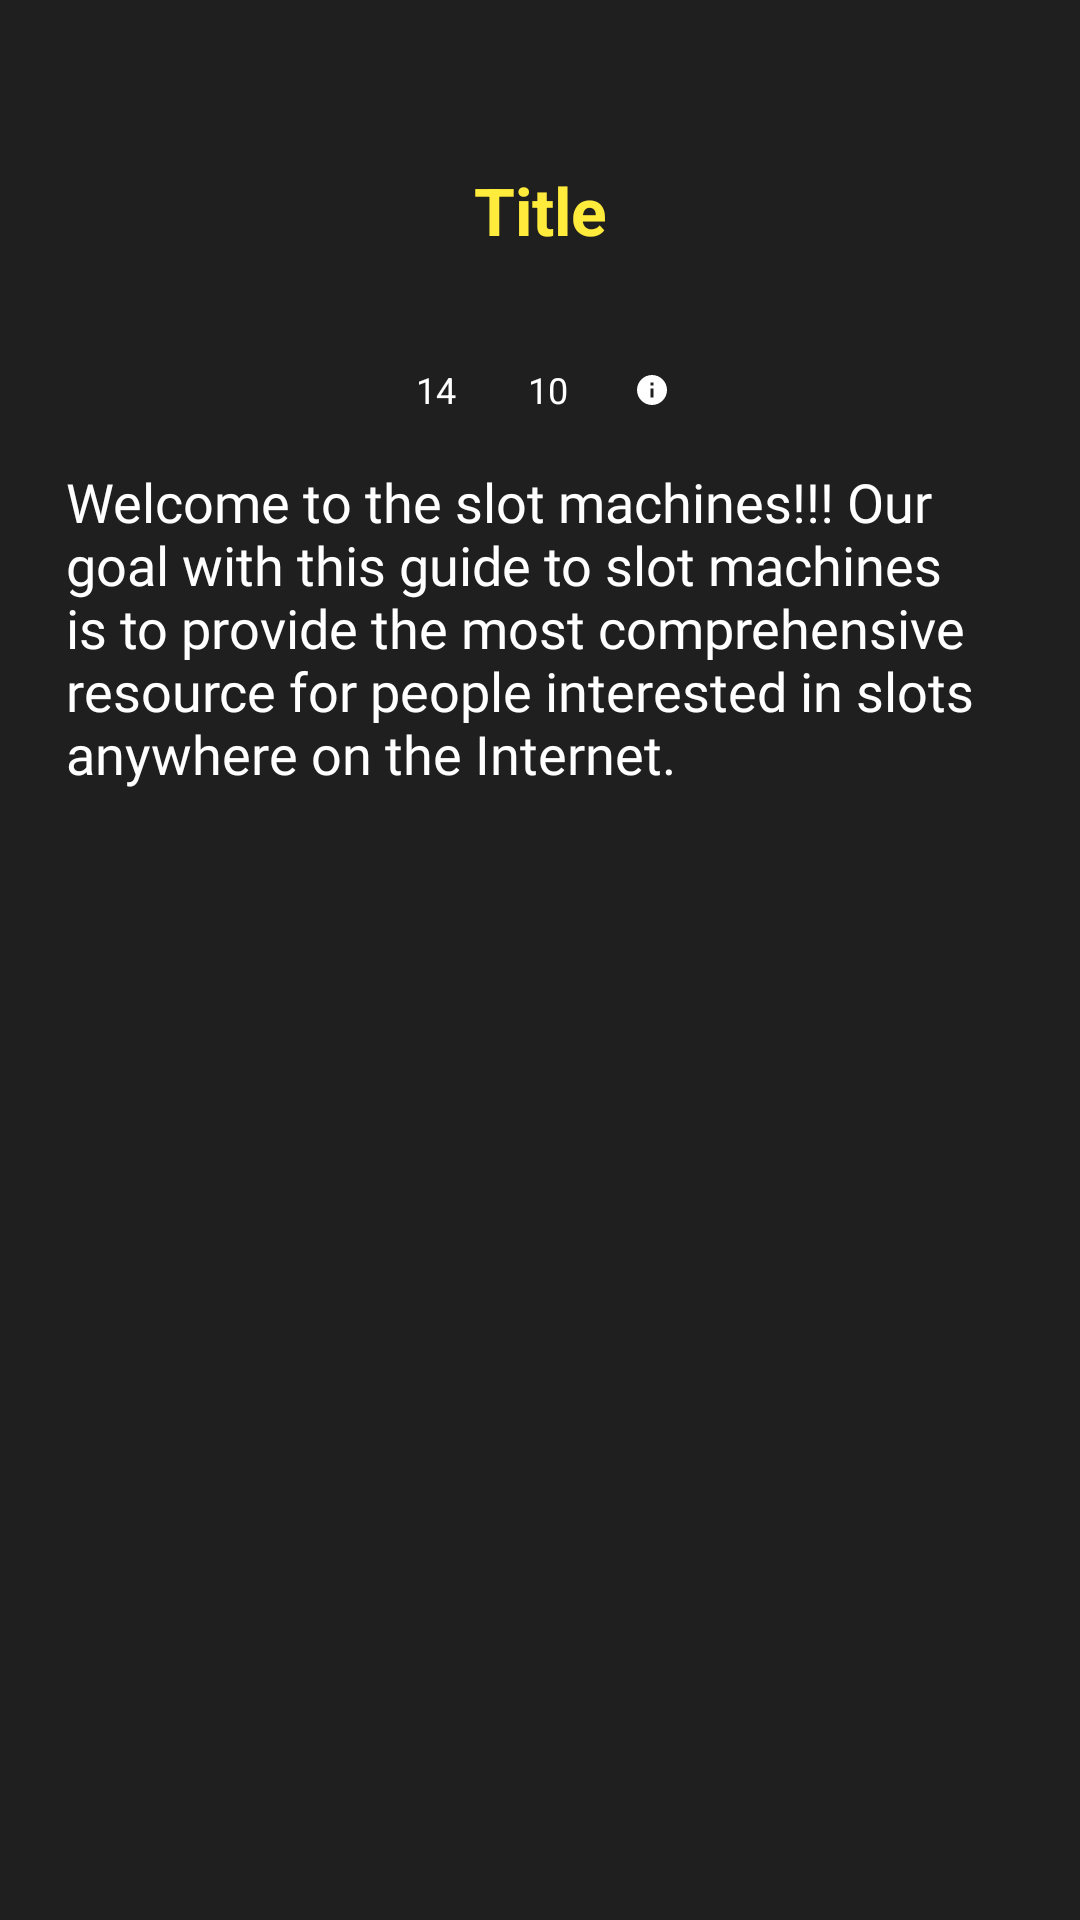

Screen size 1080*1920. Icon name, then its center in pixels as (x=x, y=y):
info: (x=652, y=390)
